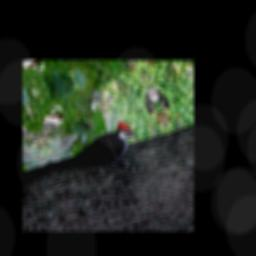Woodpecker: (42, 116, 149, 188)
